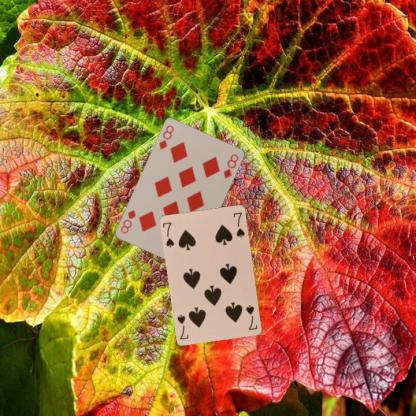7s: (160, 220, 176, 249), (244, 302, 259, 332)
8d: (157, 123, 175, 151)
